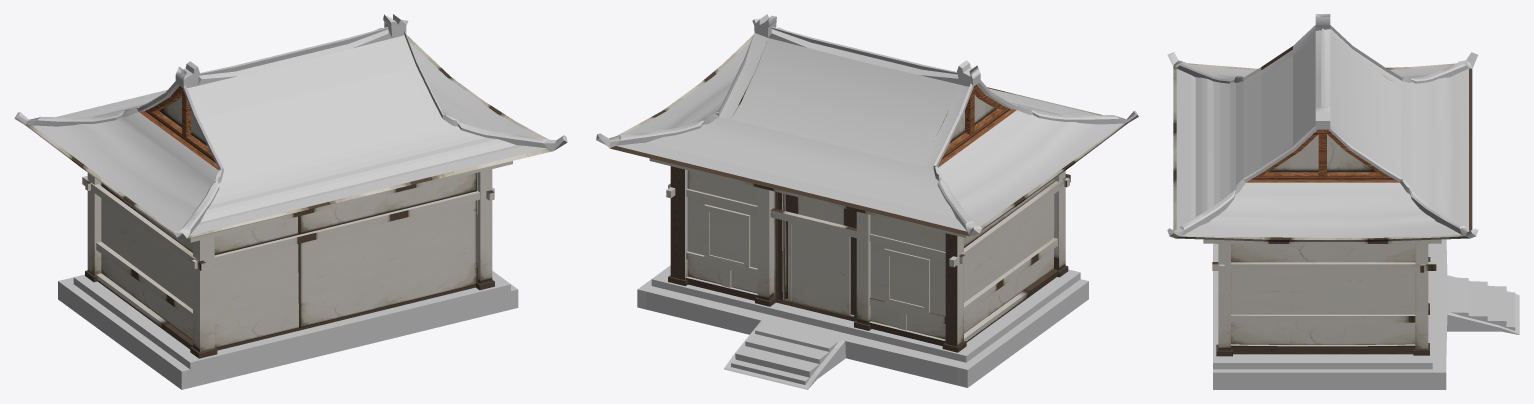
File: MDL_Environment_PlayerShops_HouseLVL1_JNHouseLevel1_7942.fbx
The picture shows the model from 3 angles, left to right: view 1: azimuth 30°, elevation 25°; view 2: azimuth 150°, elevation 25°; view 3: azimuth 270°, elevation 25°; orthographic projection. The views are drawn at different scales.
Parts seen in each view (by area): view 1: Cube.004, Roof2, Base, Cube.020, Cube.022, Pillars, Beams, Cube.002, Cube.021, Cube.024, Cube.003, Roof1 (+1 smaller); view 2: Roof1, Base, Cube.004, Cube.020, Pillars, Cube.002, Cube.022, Beams, Door, Cube.021, Window, Window.001 (+4 smaller); view 3: Cube.004, Roof2, Roof1, Base, Cube.021, Cube.022, Cube.002, Beams, Pillars, Cube.003, Cube.024, Cube.020 (+1 smaller).
Boxes of the visible parts, <box> form: Cube.004: <box>96,173,477,350</box>; Roof2: <box>190,38,546,235</box>; Base: <box>58,271,518,389</box>; Cube.020: <box>32,112,218,231</box>; Cube.022: <box>14,14,567,239</box>; Pillars: <box>85,169,494,358</box>; Beams: <box>82,176,494,320</box>; Cube.002: <box>25,35,553,281</box>; Cube.021: <box>410,43,539,137</box>; Cube.024: <box>187,35,442,171</box>; Cube.003: <box>139,86,219,170</box>; Roof1: <box>55,89,167,117</box>; Roof1: <box>616,38,966,231</box>; Base: <box>637,265,1088,389</box>; Cube.004: <box>686,104,1058,346</box>; Cube.020: <box>938,110,1123,226</box>; Pillars: <box>668,166,1068,352</box>; Cube.002: <box>610,34,1127,321</box>; Cube.022: <box>596,14,1138,236</box>; Beams: <box>666,174,1070,330</box>; Door: <box>788,221,850,315</box>; Cube.021: <box>625,42,750,134</box>; Window: <box>704,204,750,267</box>; Window.001: <box>884,248,929,312</box>; Cube.004: <box>1231,244,1415,354</box>; Roof2: <box>1176,35,1315,228</box>; Roof1: <box>1330,35,1468,229</box>; Base: <box>1213,239,1519,389</box>; Cube.021: <box>1181,182,1461,238</box>; Cube.022: <box>1167,14,1478,238</box>; Cube.002: <box>1173,46,1472,243</box>; Beams: <box>1212,262,1436,322</box>; Pillars: <box>1216,244,1430,356</box>; Cube.003: <box>1246,75,1399,182</box>; Cube.024: <box>1243,28,1401,177</box>; Cube.020: <box>1194,66,1450,78</box>.
Bounding box in the file's own units: 429 × 281 × 353.
